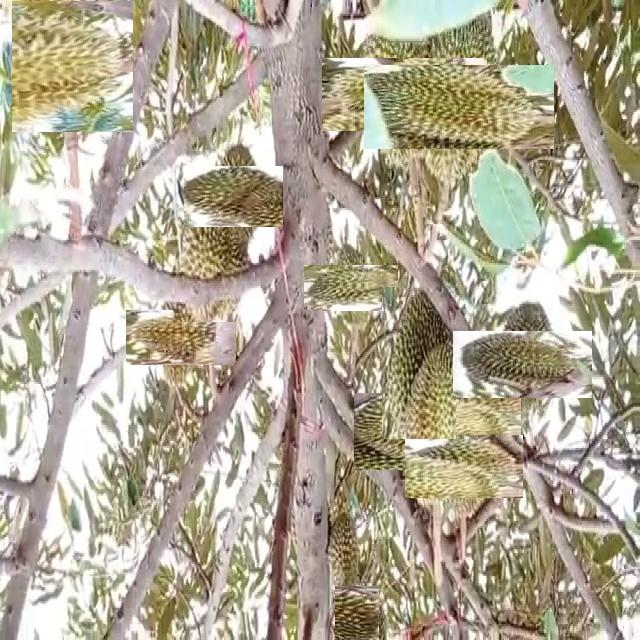durian: (390, 38, 527, 175), (7, 0, 137, 128), (376, 370, 499, 492), (345, 35, 465, 154), (382, 287, 456, 439), (471, 312, 574, 416), (173, 200, 254, 322), (418, 421, 509, 512), (140, 296, 222, 379), (193, 156, 274, 236), (316, 252, 386, 323), (325, 508, 362, 595), (330, 591, 384, 640)
